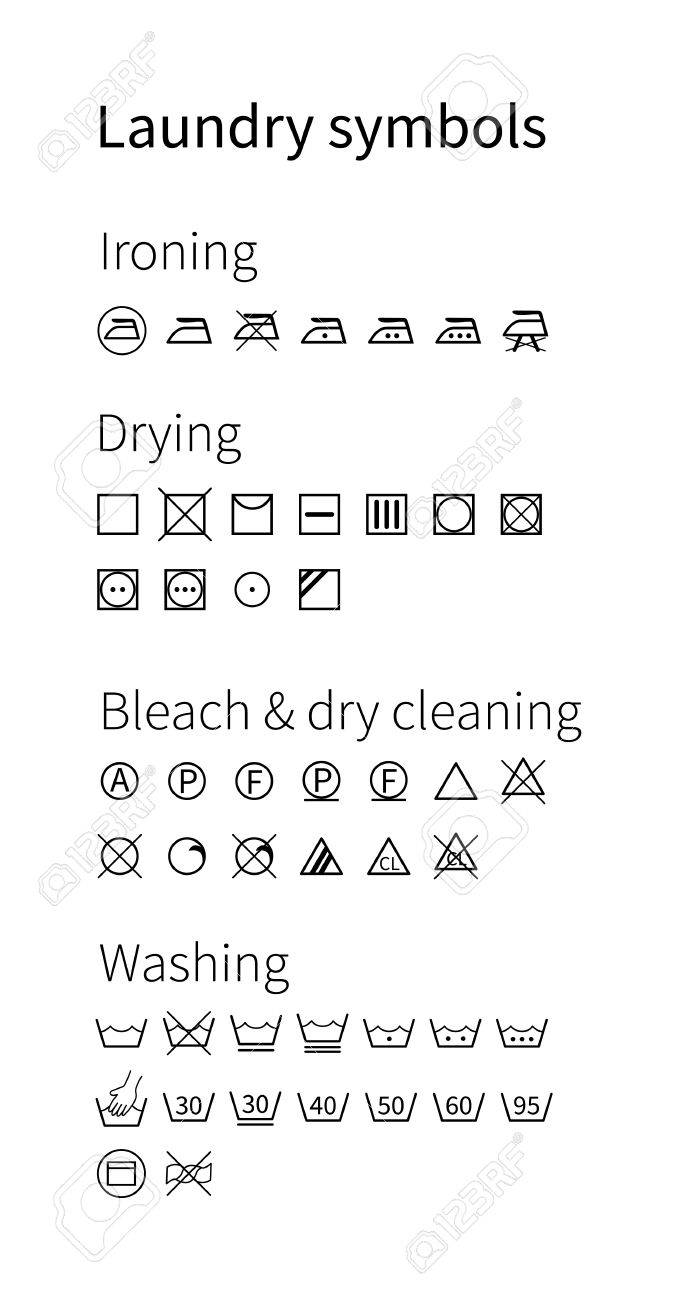do_not_bleach: (498, 754, 547, 806), (433, 831, 479, 879)
do_not_dry_clean: (230, 831, 280, 881), (98, 832, 144, 879)
do_not_iron: (233, 307, 280, 351)
do_not_wash: (161, 1010, 216, 1056)
